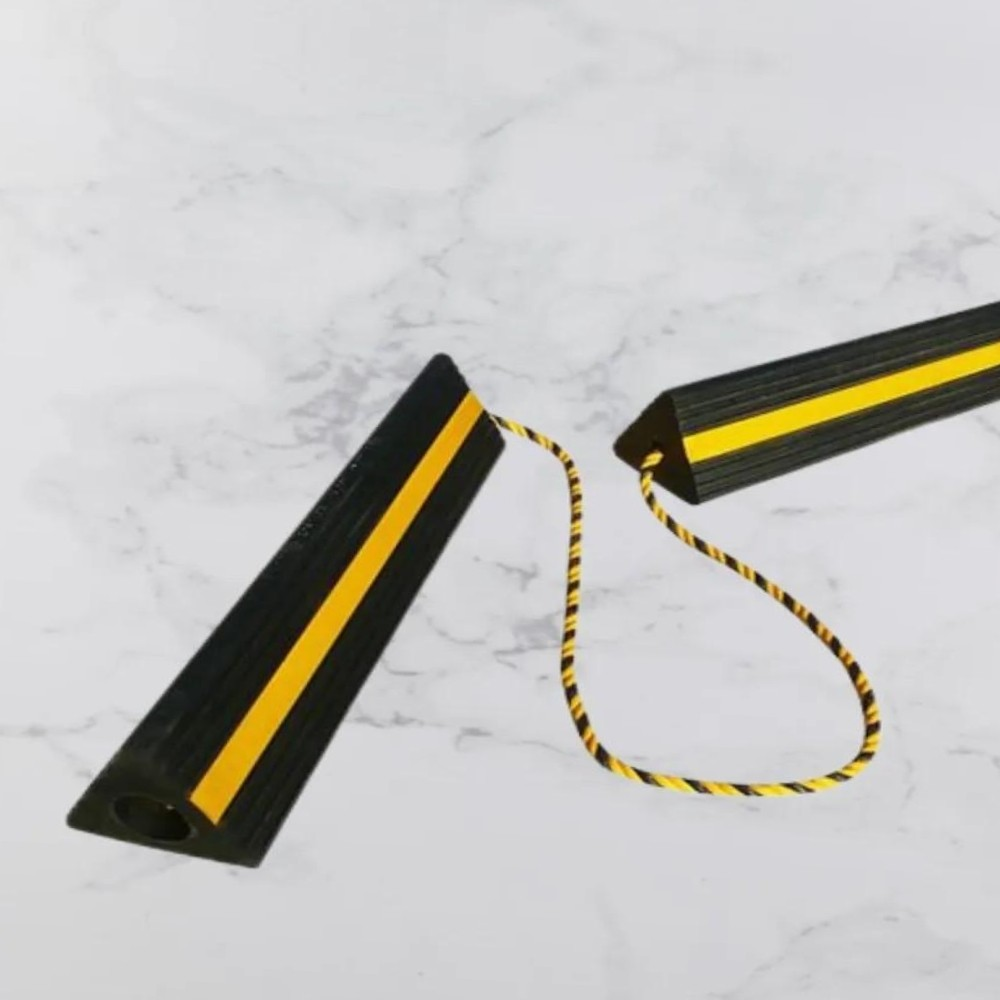chock: (53, 326, 510, 889), (610, 263, 1000, 524)
